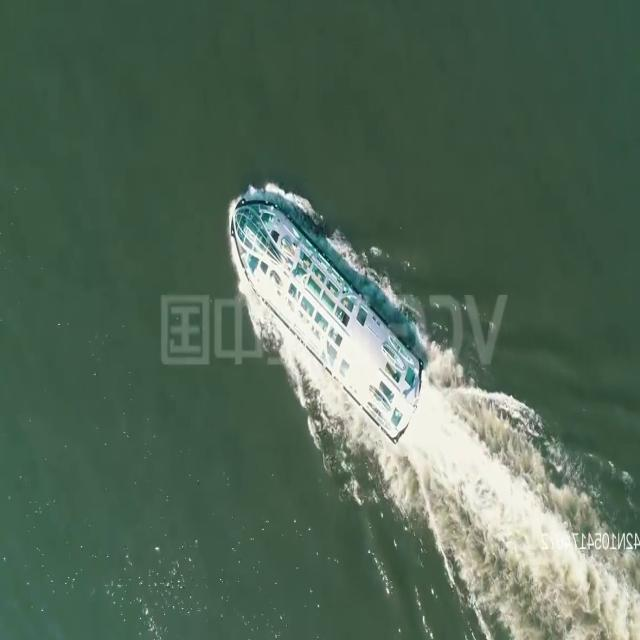houseboat: (232, 184, 424, 448)
